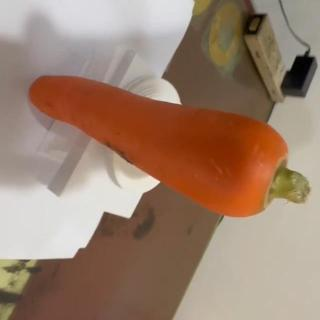carrot: (30, 73, 310, 218)
